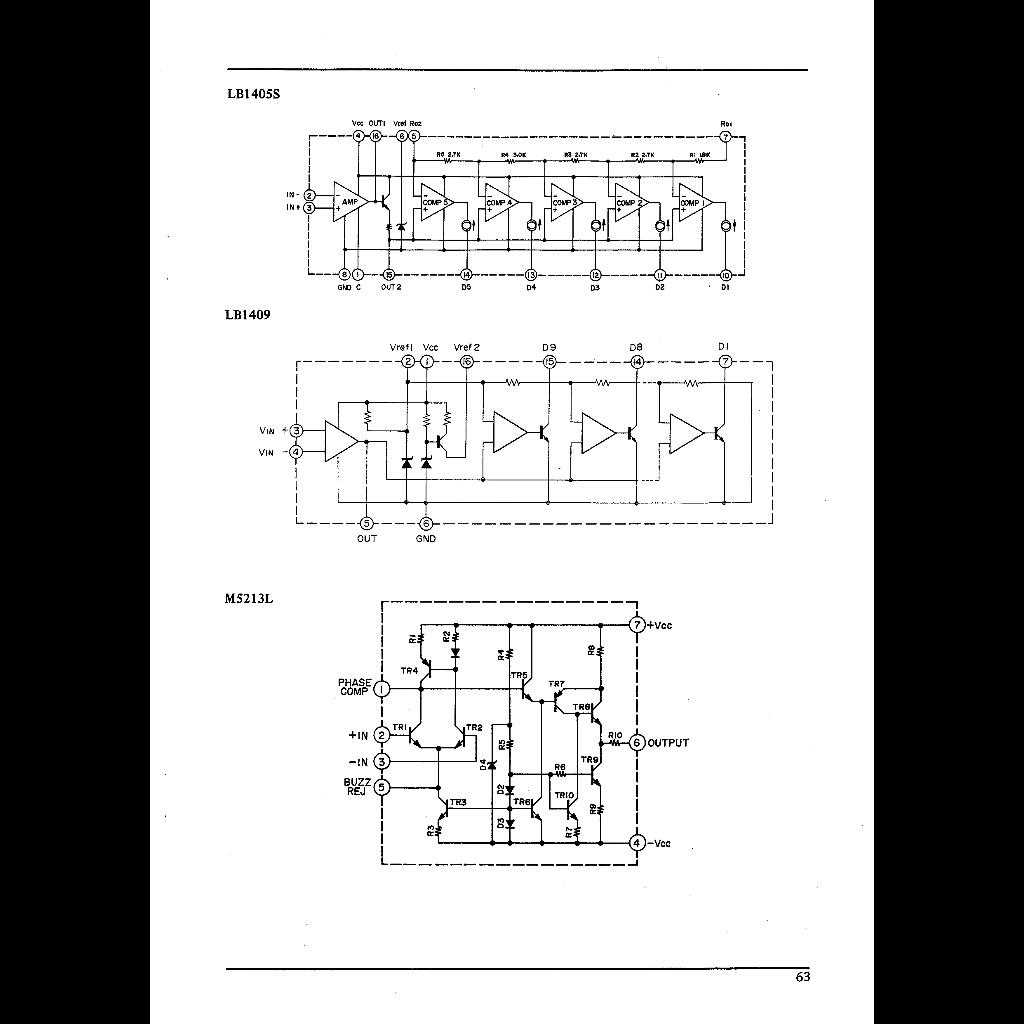Diagram: (246, 337, 786, 557), (332, 590, 692, 882), (278, 112, 768, 302)
